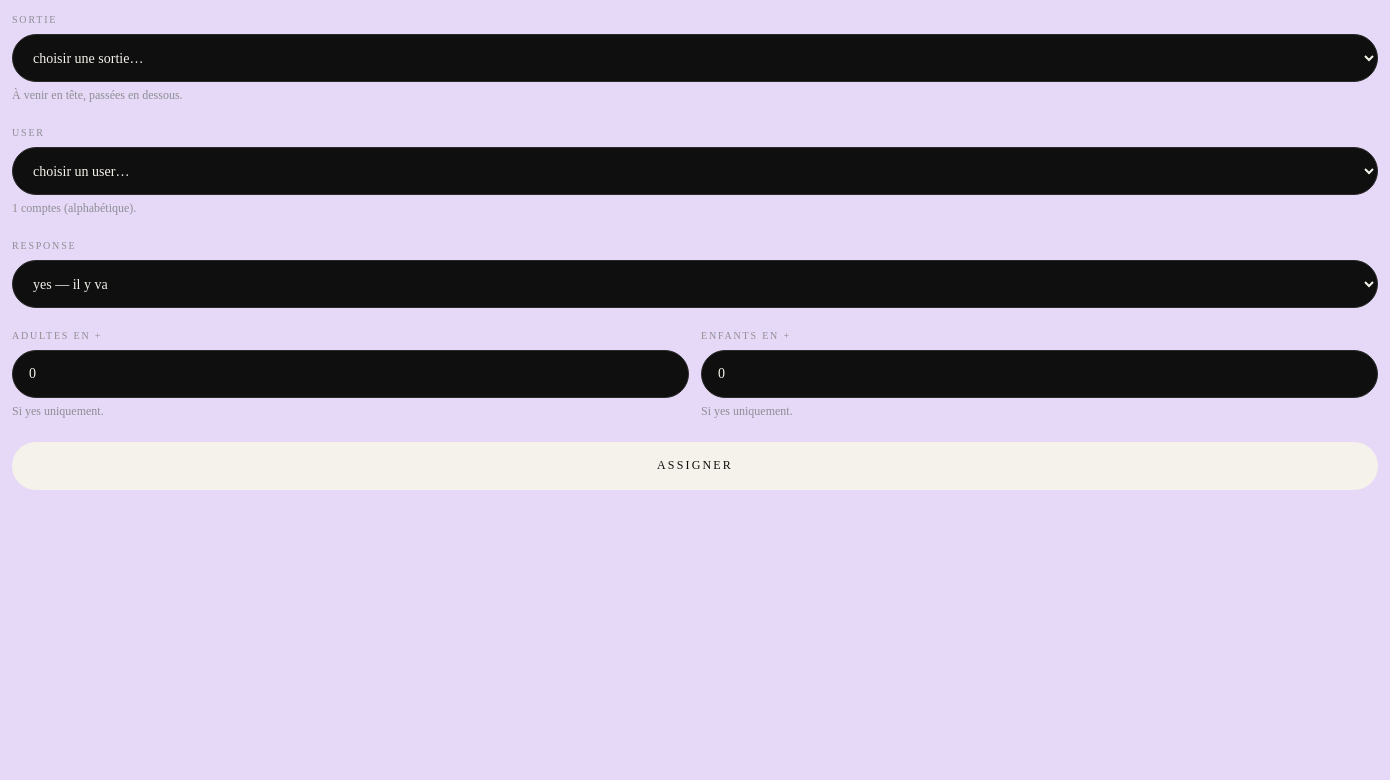
AssignForm › propose les créneaux à cocher pour un sondage ouvert, sans menu réponse
The image size is (1390, 780).
Step 1. Select "Sondage ouvert — à voter" in the dropdown labelled "sortie À venir en tête, passées en dessous." → point(695, 58), box [12,34,1378,82]
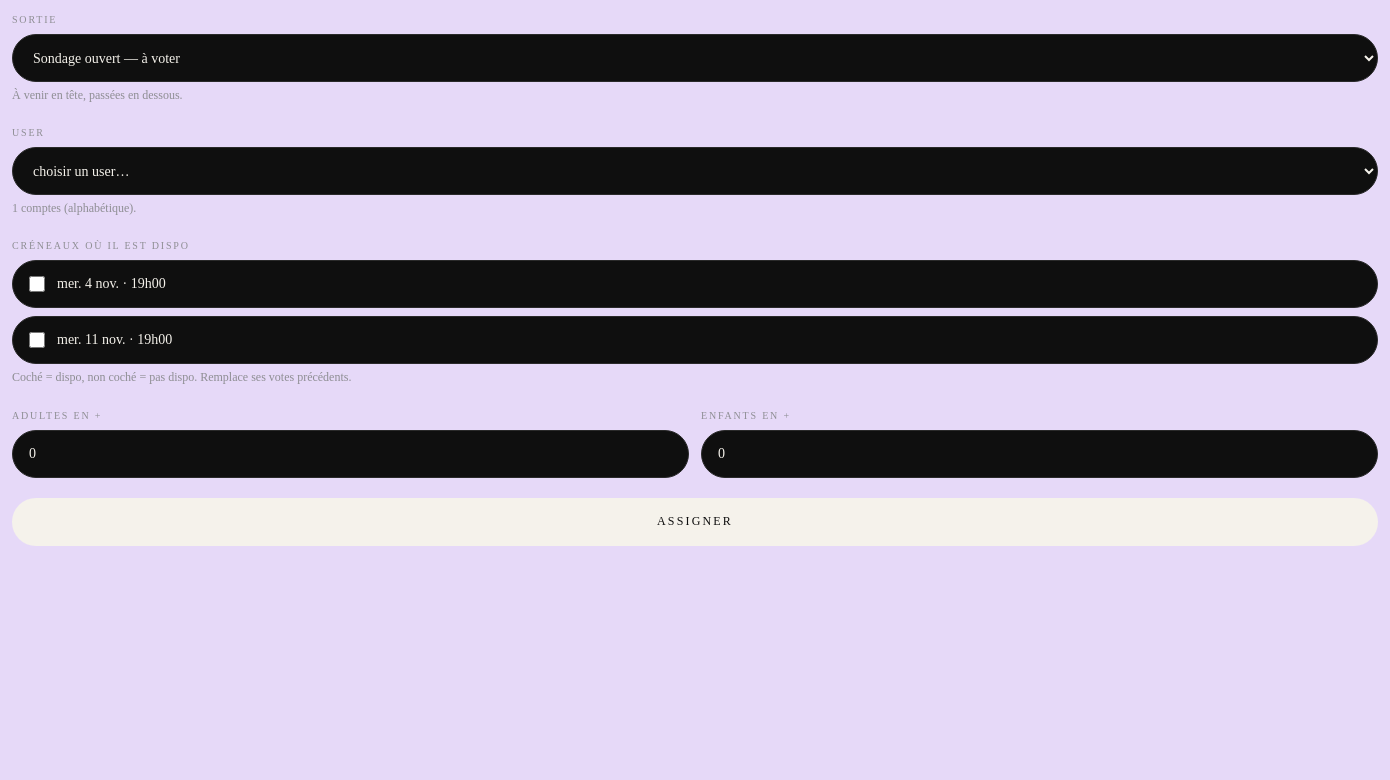
Step 2. Select "Yves — yves@example.com" in the dropdown labelled "user 1 comptes (alphabétique)." → point(695, 171), box [12,147,1378,195]
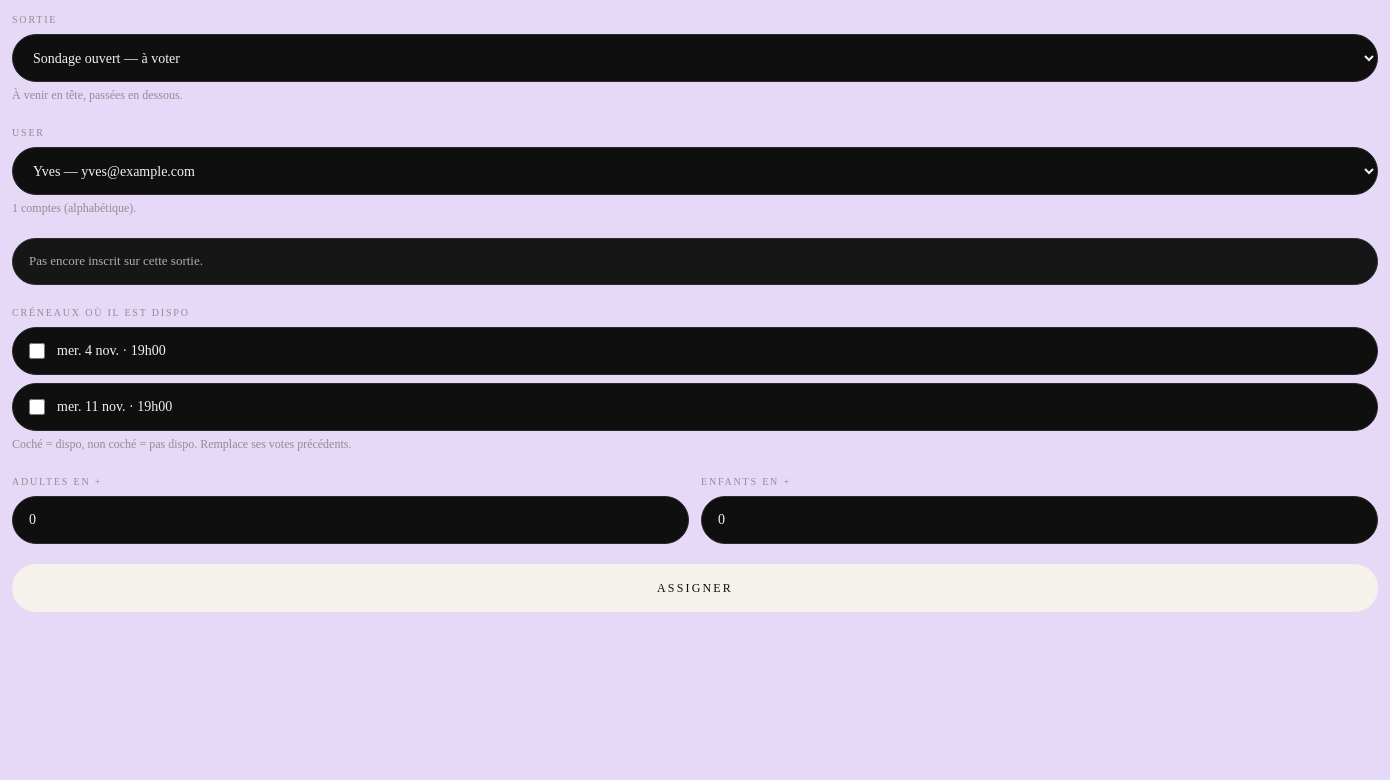
expect the text "Pas encore inscrit sur cette sortie." is shown: met, box [12,238,1378,285]
